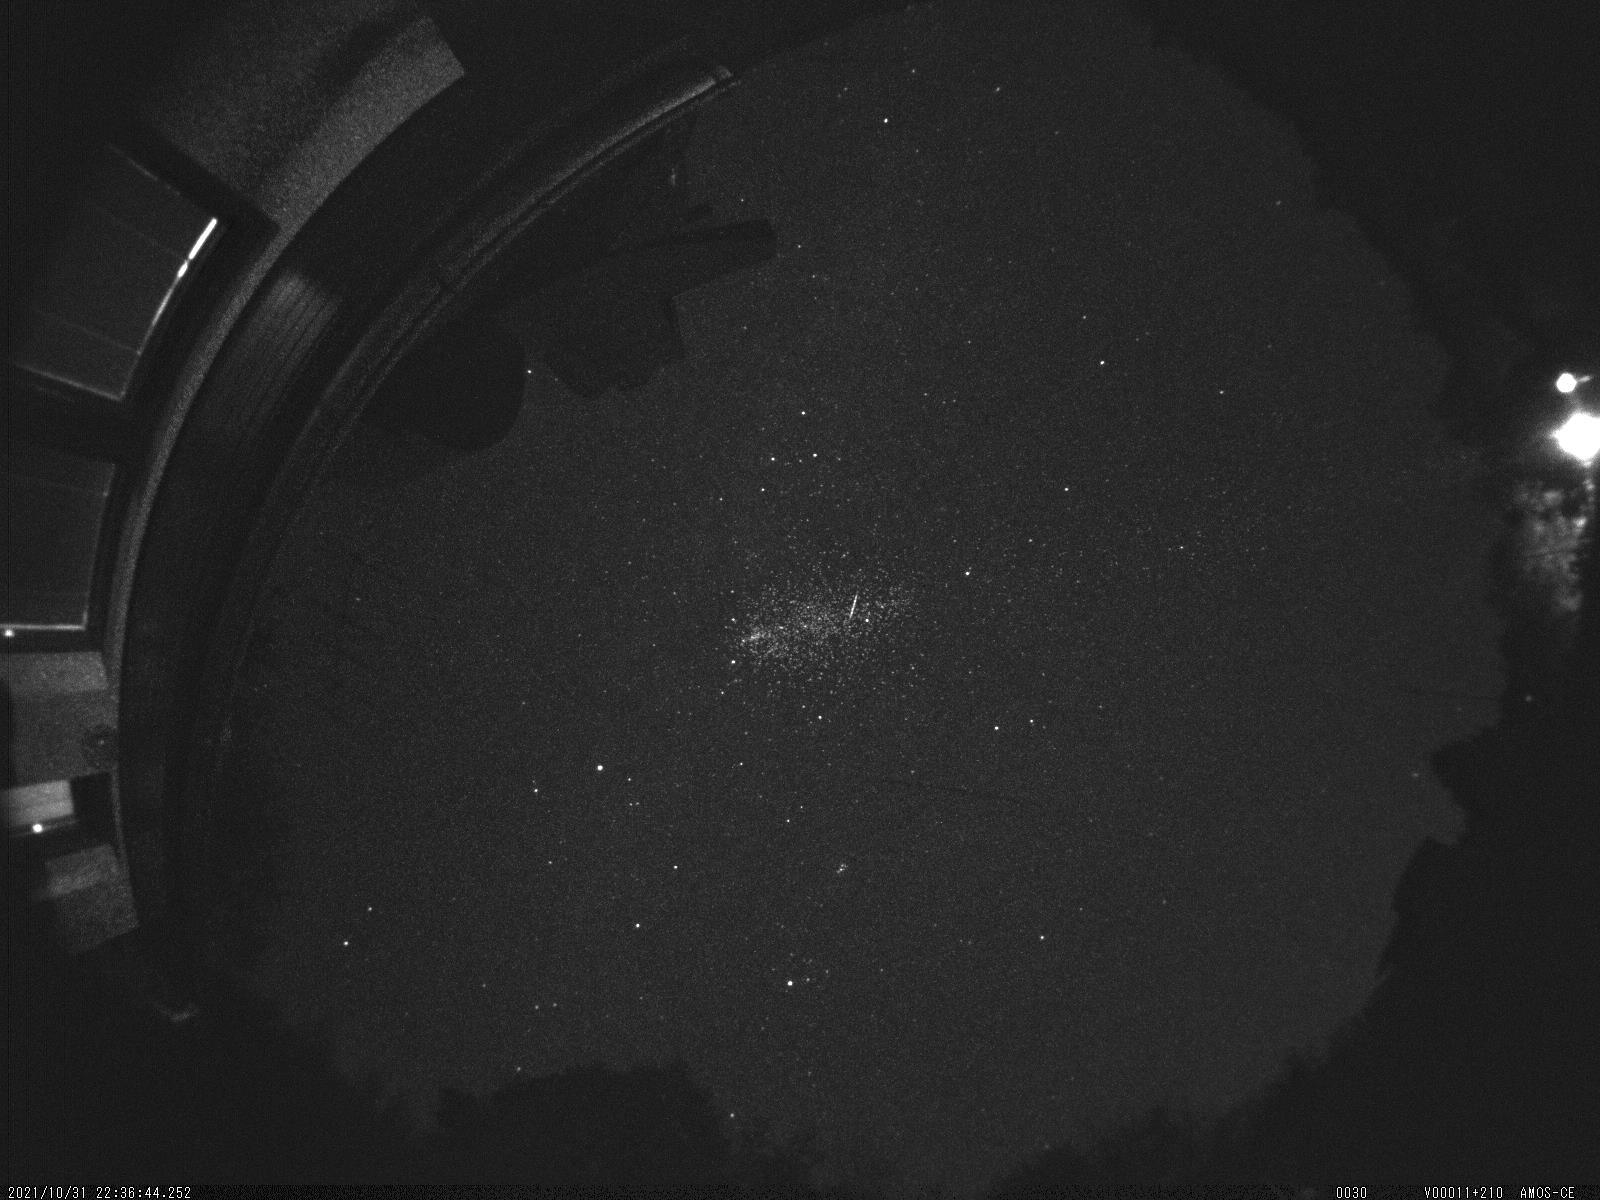Meteor: (844, 582, 864, 630)
